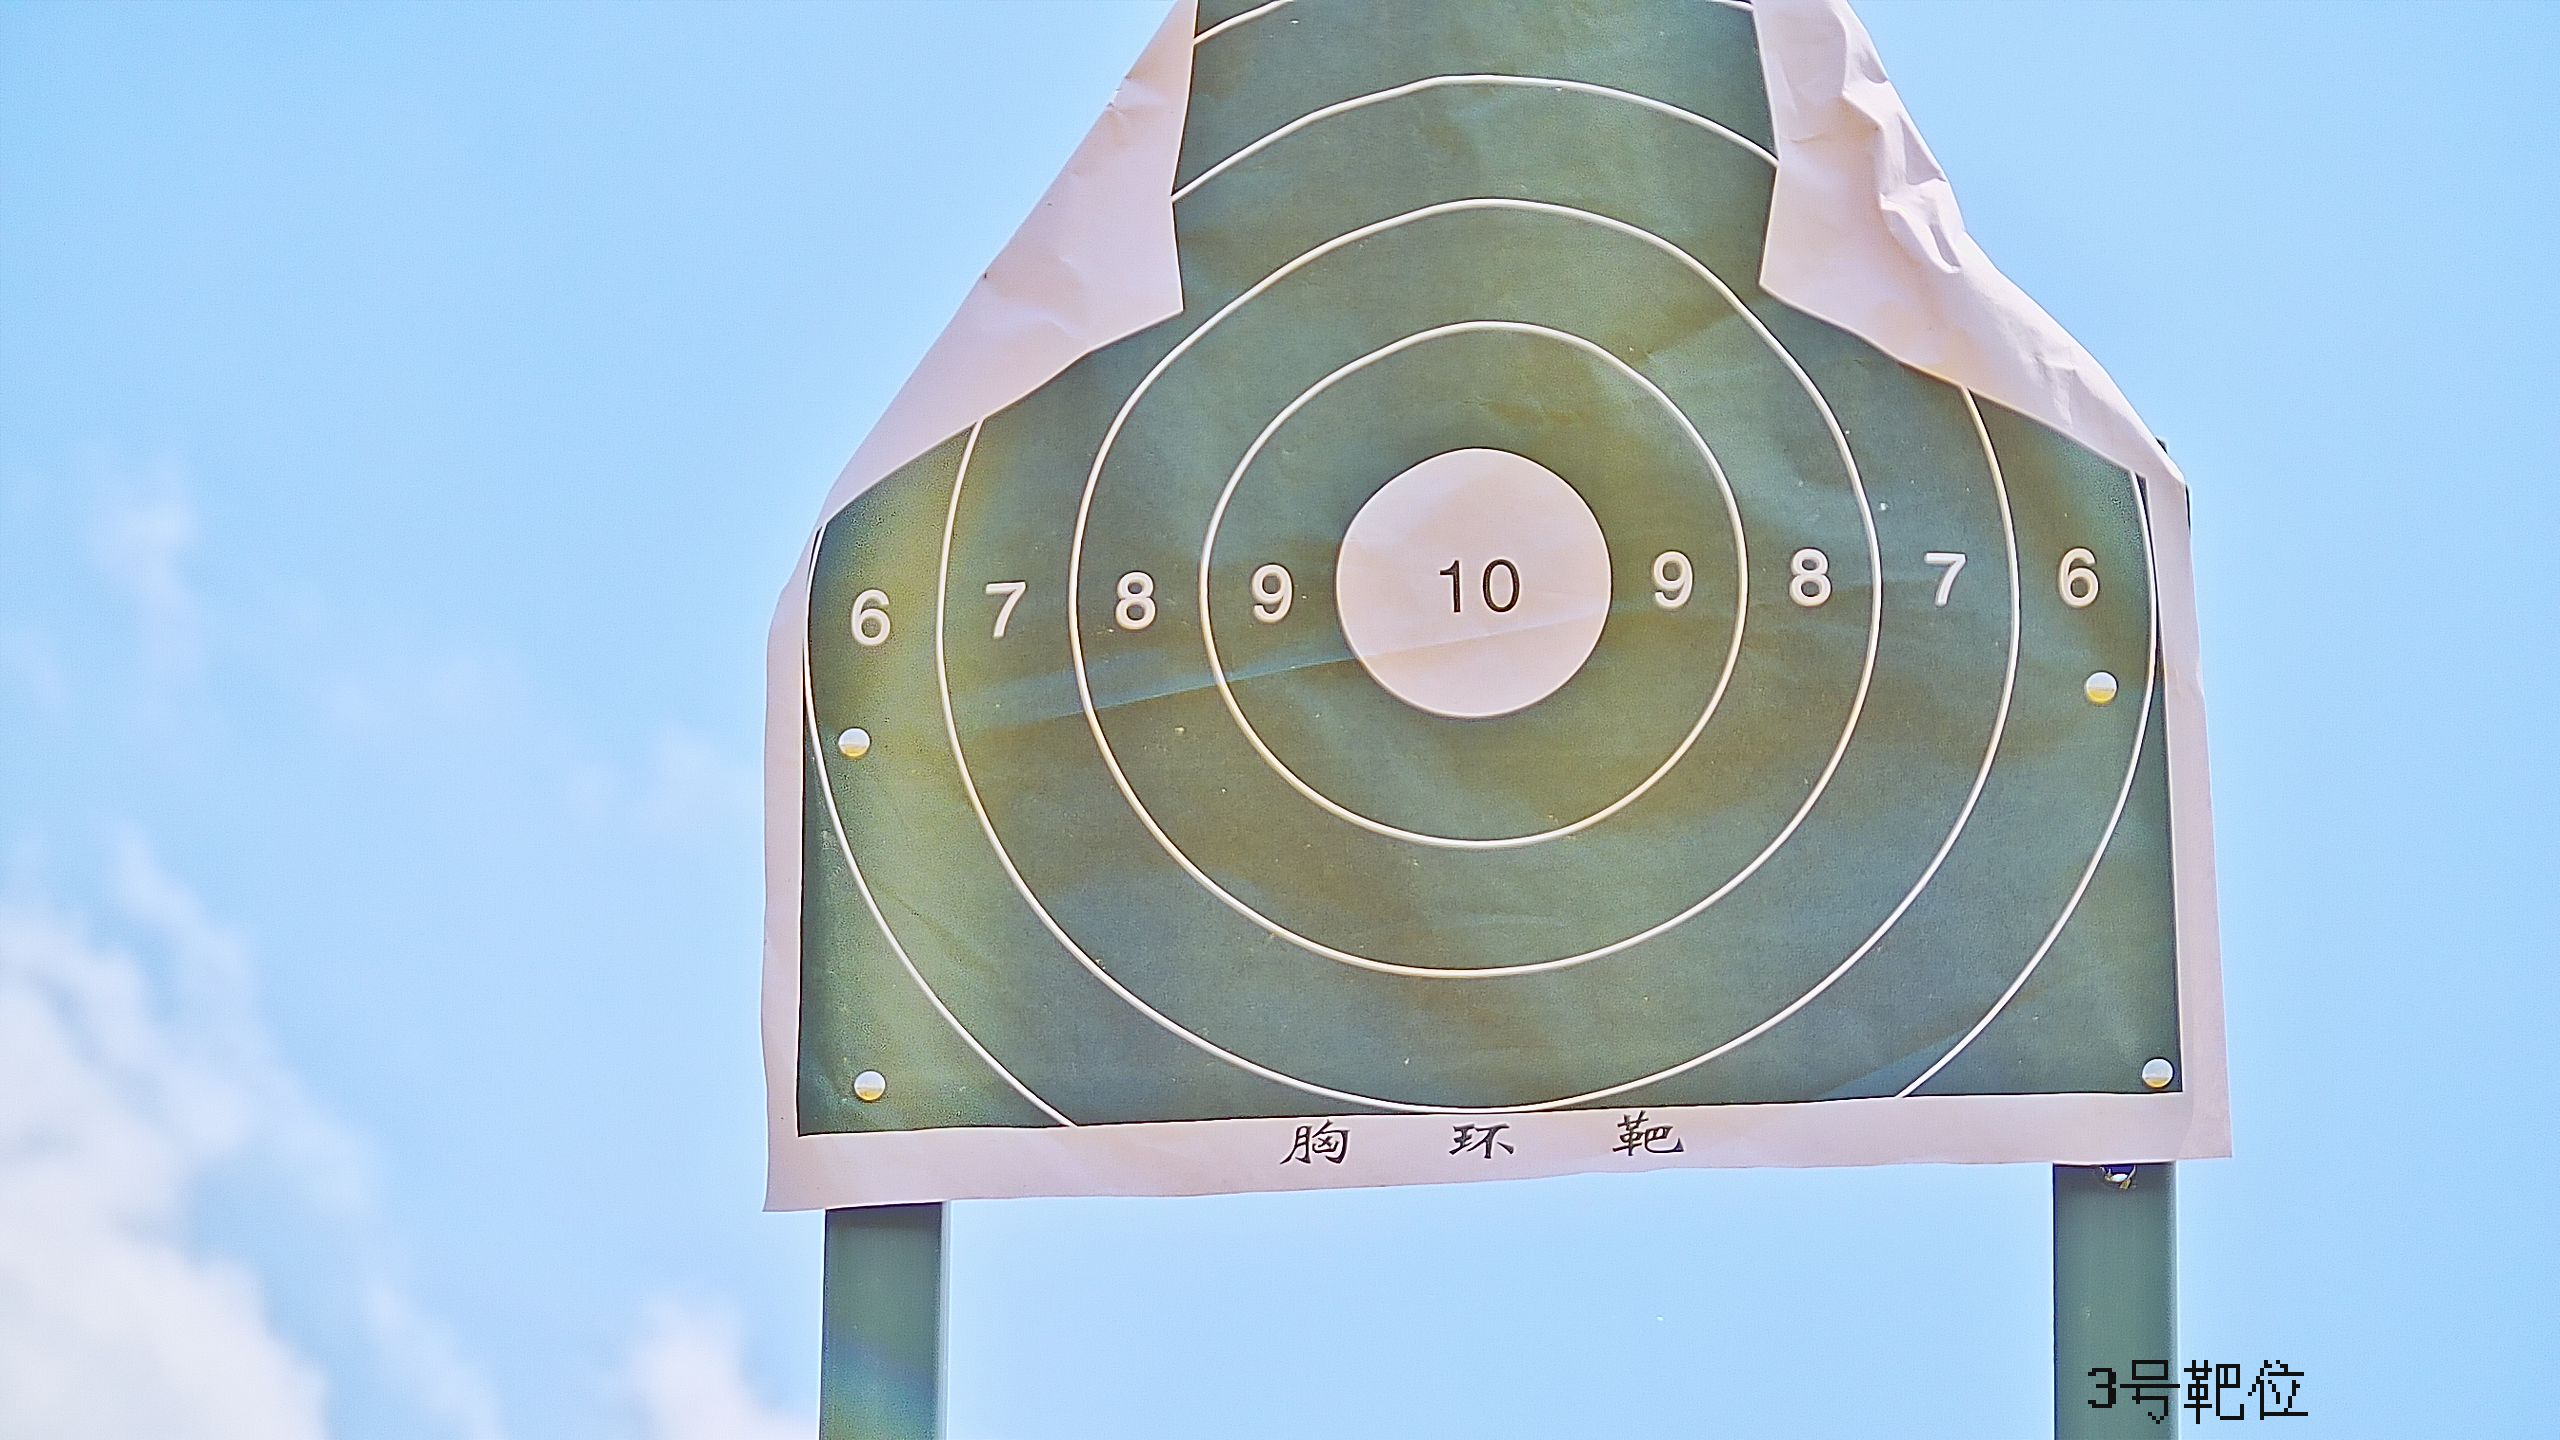kernel: (1472, 585, 1479, 593)
target: (789, 2, 2184, 1134)
ten: (1333, 447, 1616, 719)
